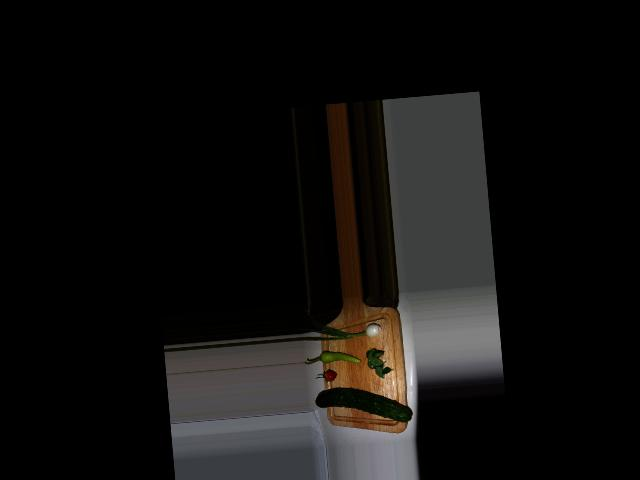cucumber: (315, 382, 412, 429)
